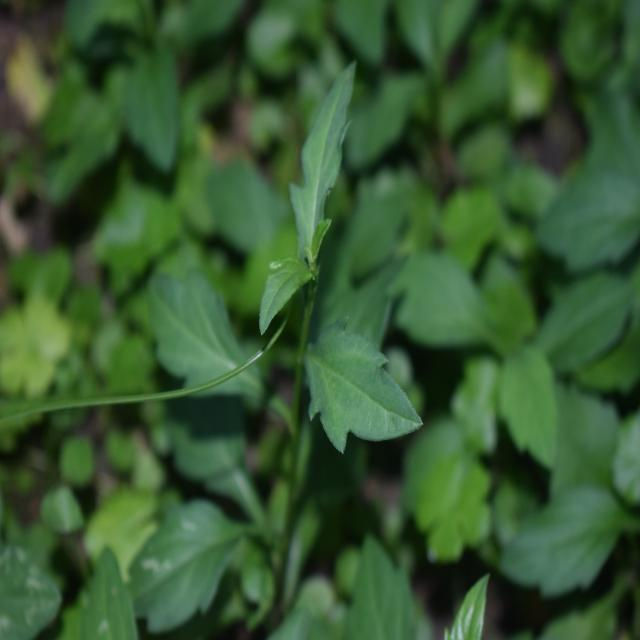Indian aster: (135, 60, 422, 553)
